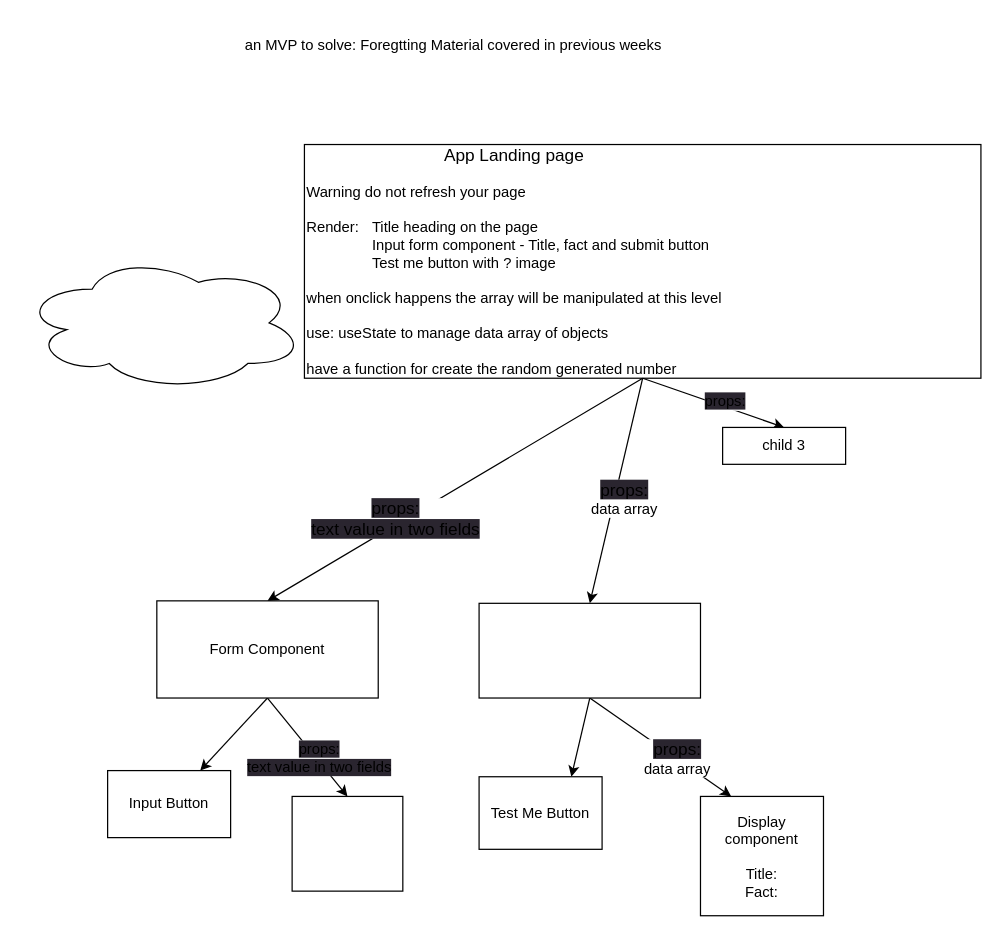
Image size: 1002x937. Some labels were removed from this diagram. The shapes that lost their labels are listed below. From the top down, each one's centre as x and y in pixels, then its label:
At [162,322]: "Think can i use dispatch as props".
At [589,650]: "Quiz Component".
At [347,843]: "Input Fields Title: Fact:".
